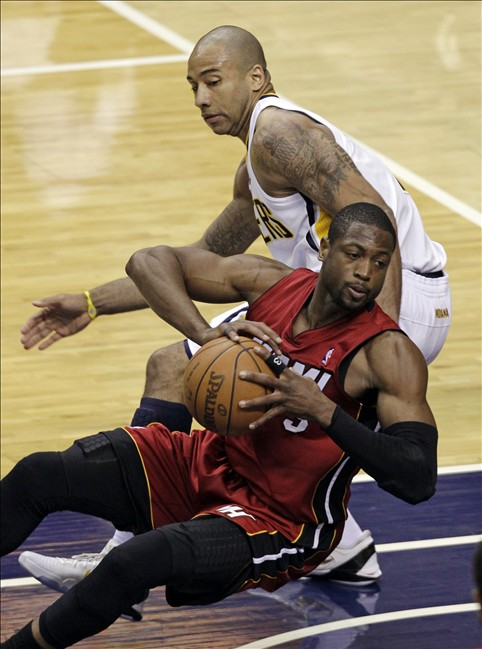fall: (19, 204, 449, 635)
